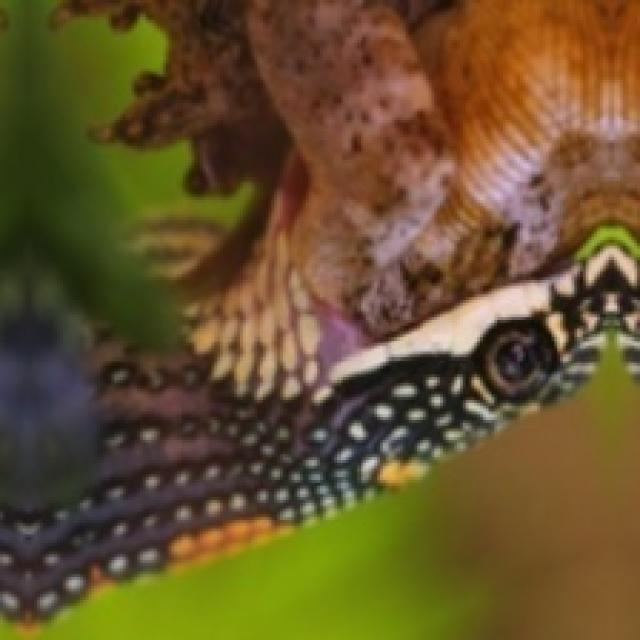paradise tree snake: (0, 0, 637, 617), (0, 266, 103, 506)
